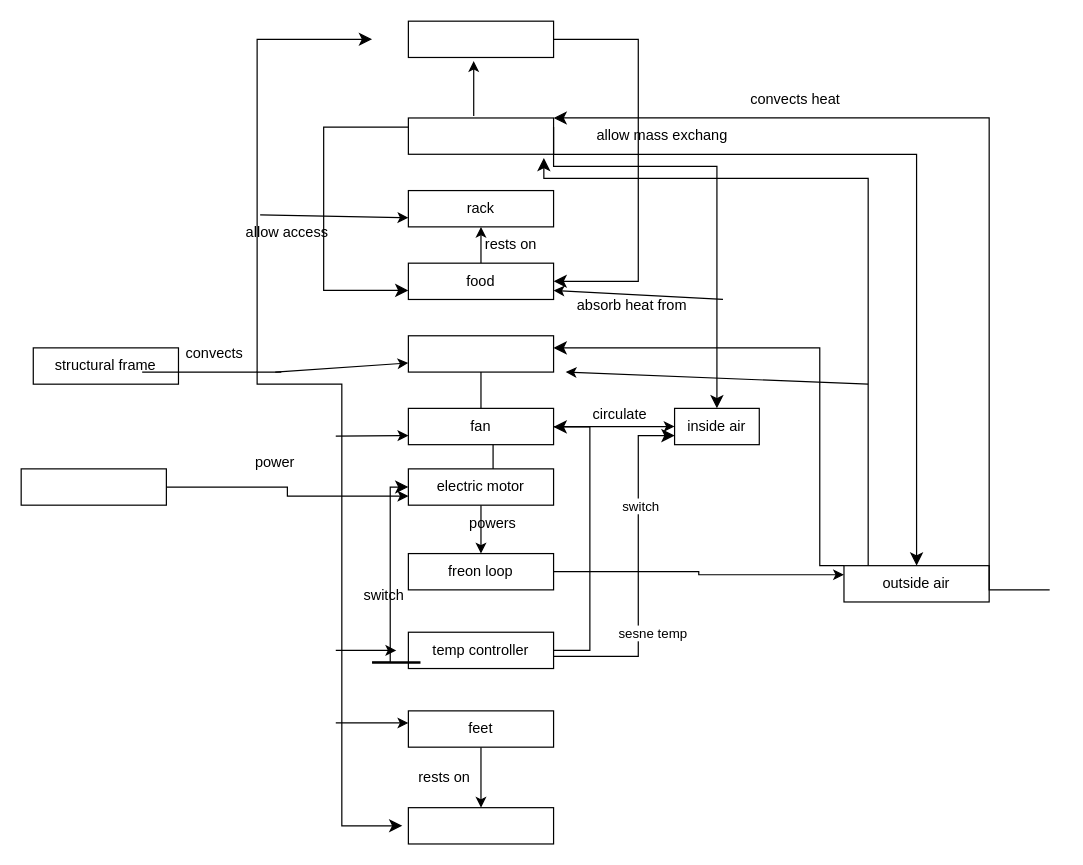
This 1083x865 diagram has some shape labels left out. The shapes that lost their labels are listed below. From the top down, each one's centre as x and y in pixels, then its label:
At point 480,38: "light".
At point 480,135: "insulated door".
At point 480,353: "insulation".
At point 93,486: "electric power supply".
At point 480,825: "support interface".
